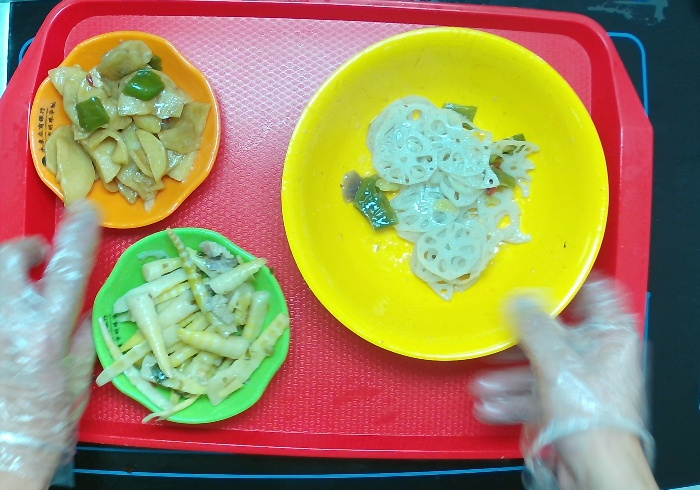YKMZ-Huang_Se_Tang_Wan: (277, 24, 612, 364)
YKMZ-Ju_Se_Ao_Bian_Wan: (28, 28, 222, 231)
YKMZ-Lv_Se_Ao_Bian_Wan: (92, 223, 292, 426)
